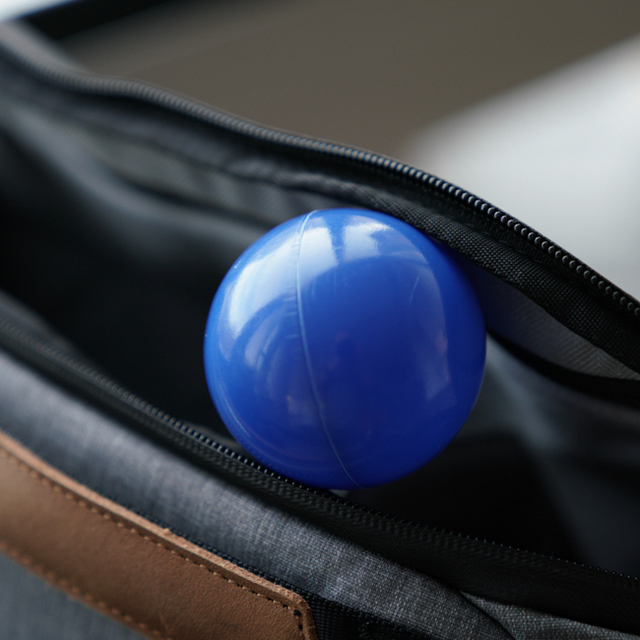Ball: (205, 208, 488, 490)
